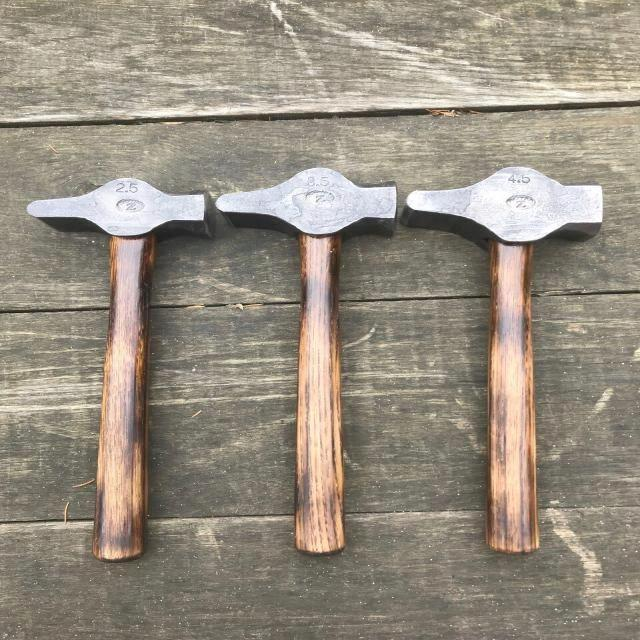hammer: (398, 162, 616, 560), (210, 164, 400, 560), (22, 172, 211, 566)
